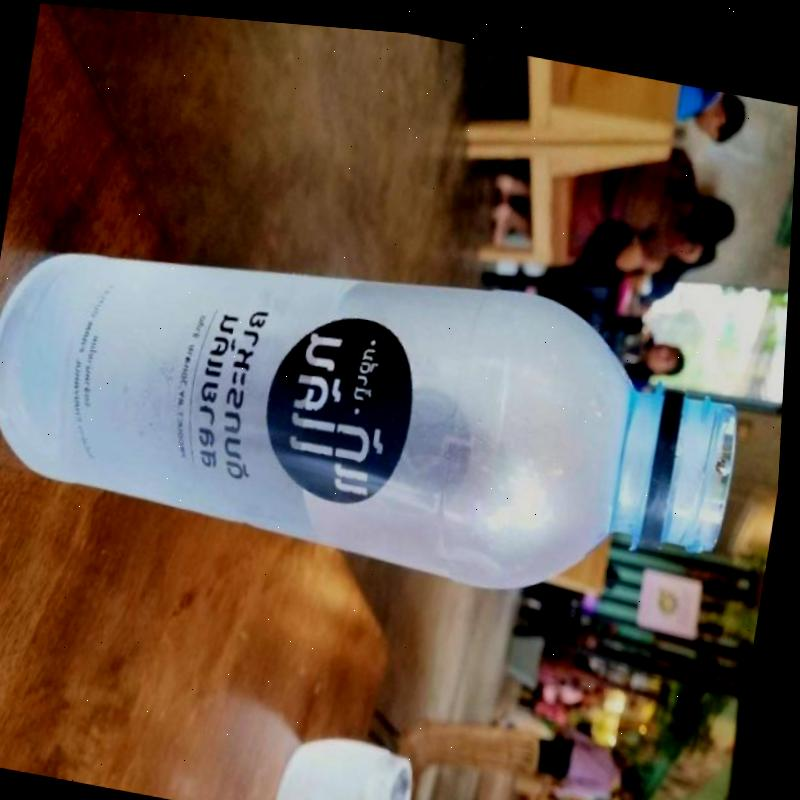botella: (0, 188, 760, 619)
